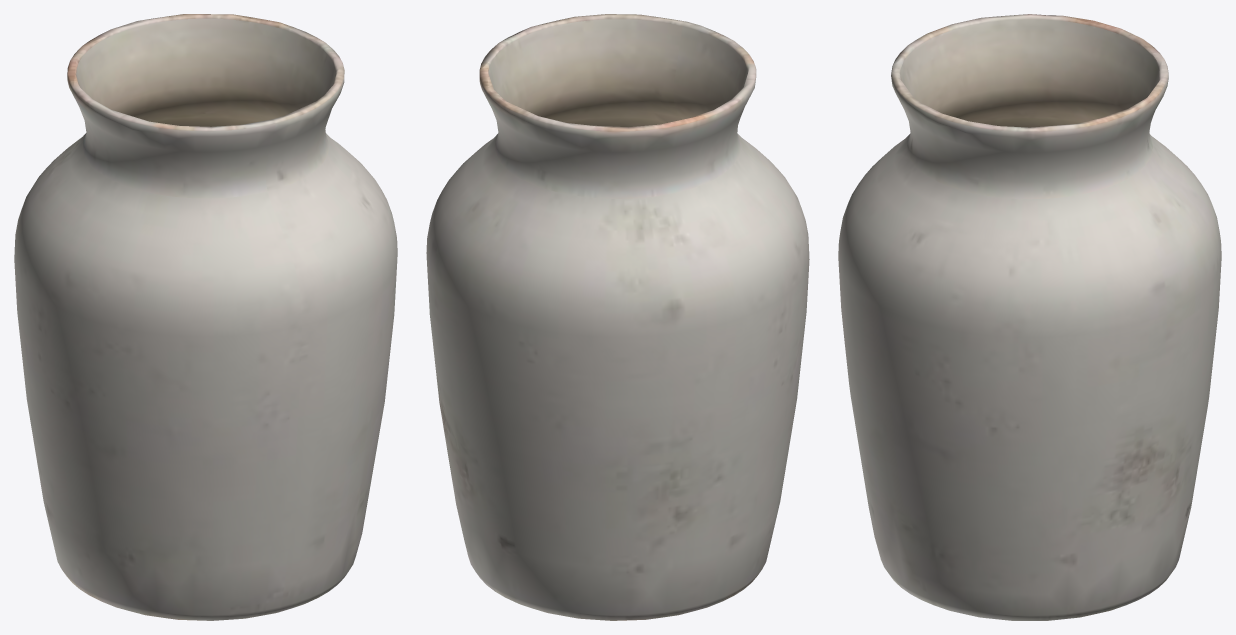
The model's file is ceramic_vase_02.glb.
The picture shows the model from 3 angles, left to right: view 1: azimuth 30°, elevation 25°; view 2: azimuth 150°, elevation 25°; view 3: azimuth 270°, elevation 25°; orthographic projection.
Visible parts, largest first — view 1: ceramic_vase_02; view 2: ceramic_vase_02; view 3: ceramic_vase_02.
Part boxes in pixels (box(x1,y1,x2,y2)): ceramic_vase_02: box(14, 14, 397, 620); ceramic_vase_02: box(426, 14, 809, 620); ceramic_vase_02: box(838, 14, 1221, 620).
Bounding box in the file's own units: 0.2184 × 0.3091 × 0.2184.
Materials: 1 (1 with a texture image).
